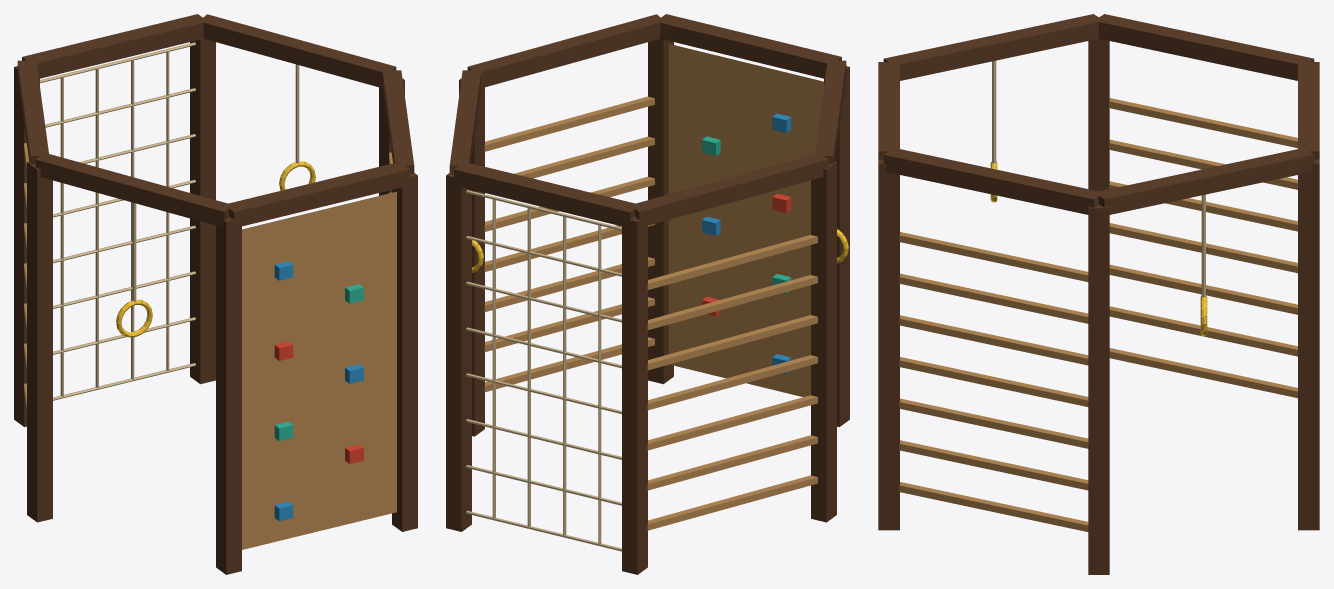
3 renders of one model, left to right at view 1: azimuth 30°, elevation 25°; view 2: azimuth 150°, elevation 25°; view 3: azimuth 270°, elevation 25°, orthographic. The views are drawn at different scales.
Visible parts, largest first — view 1: SW-A403; view 2: SW-A403; view 3: SW-A403.
Boxes of the visible parts, x1=… form: SW-A403: x1=14, y1=14, x2=417, y2=574; SW-A403: x1=446, y1=14, x2=849, y2=574; SW-A403: x1=878, y1=14, x2=1319, y2=574.
Bounding box in the file's own units: 2.4 × 2.25 × 2.4.
